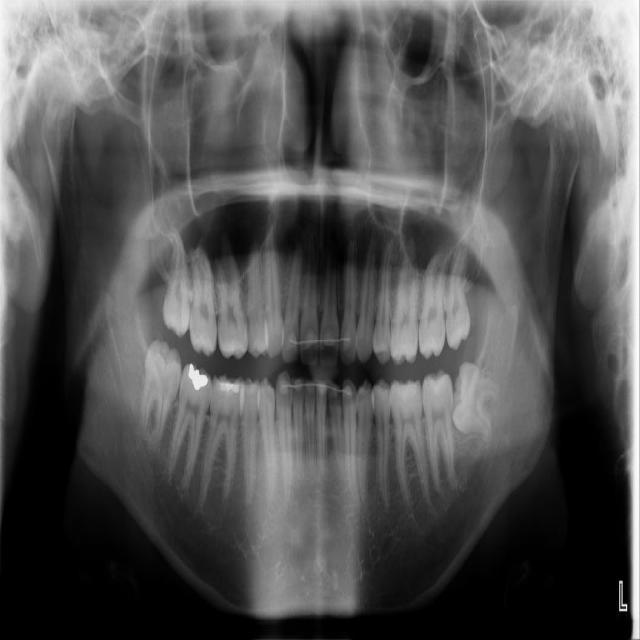3M ESPE Implant: (162, 223, 195, 339)
52: (206, 373, 247, 434), (176, 361, 216, 421)
73: (580, 586, 580, 600)
BioHorizons Implant: (416, 244, 453, 362)
BioLife Implant: (440, 233, 472, 350)
Biomet 3i Implant: (443, 359, 505, 445)
Blue Sky Bio Implant: (421, 368, 458, 492)
Caries: (186, 239, 218, 359)
Implant: (164, 361, 216, 493)
Keystone Dental Implant: (136, 338, 185, 452)
